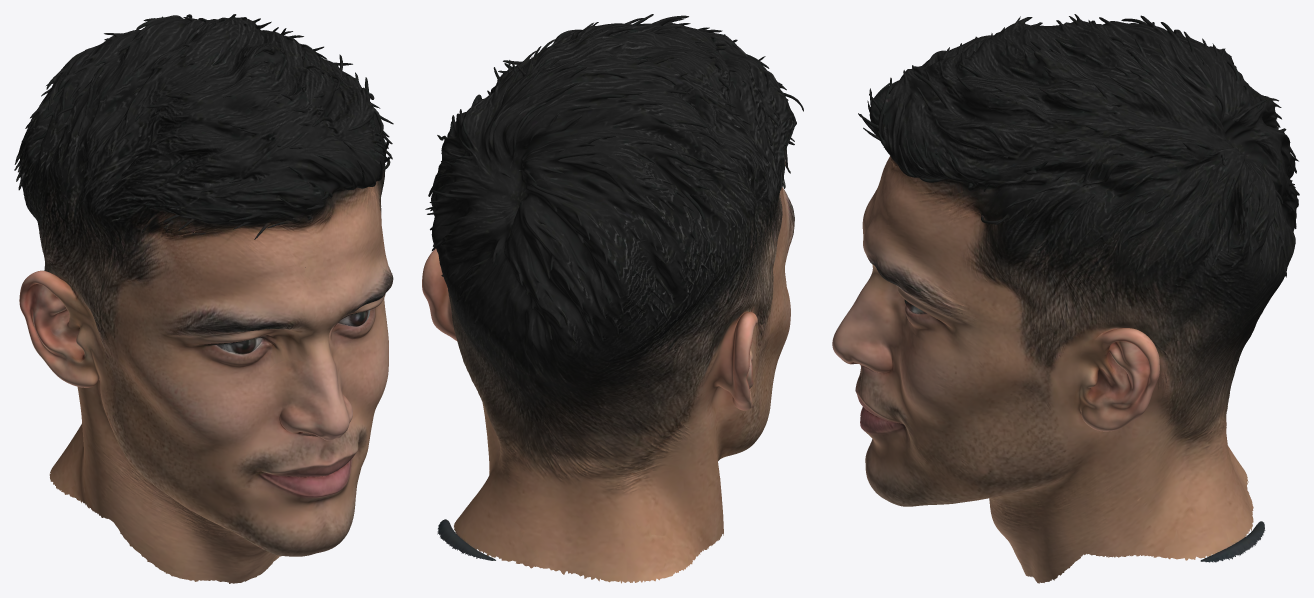
File: skin_m_2k.glb
The picture shows the model from 3 angles, left to right: view 1: azimuth 30°, elevation 25°; view 2: azimuth 150°, elevation 25°; view 3: azimuth 270°, elevation 25°; orthographic projection. The views are drawn at different scales.
Visible parts, largest first — view 1: Skin; view 2: Skin; view 3: Skin.
Boxes of the visible parts, x1,y1,x2,y2 form: Skin: (14,14,393,583); Skin: (422,14,803,583); Skin: (832,14,1299,583).
Bounding box in the file's own units: 0.1798 × 0.2756 × 0.2176.
Materials: 1 (1 with a texture image).
